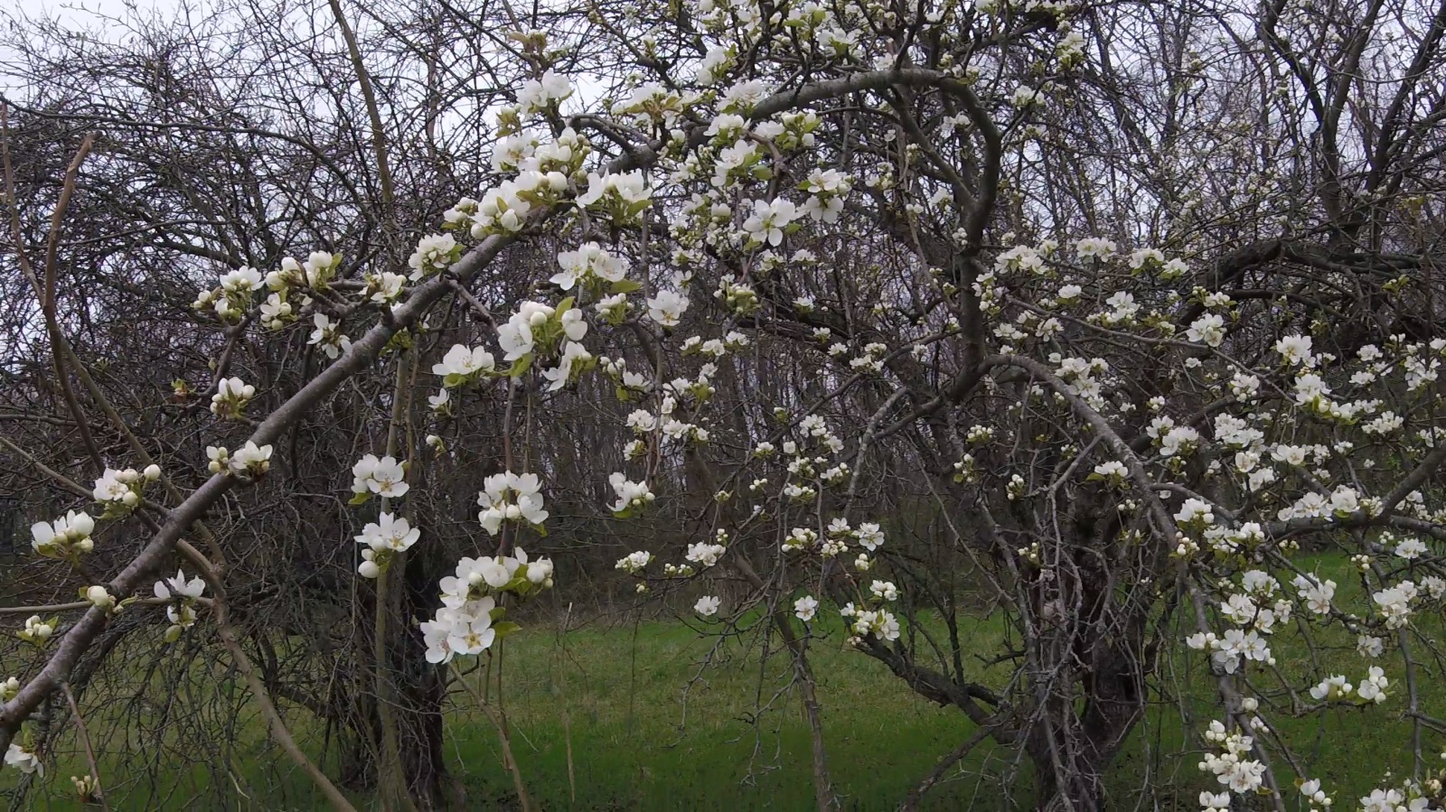flower: (443, 127, 587, 240), (421, 547, 554, 665), (1270, 334, 1379, 423), (212, 250, 344, 322), (1215, 414, 1333, 473), (1191, 720, 1270, 794), (743, 194, 850, 247), (576, 163, 696, 209), (477, 471, 549, 537), (354, 512, 421, 577), (1373, 571, 1446, 630), (549, 242, 633, 291), (1187, 630, 1276, 674), (508, 68, 576, 125), (497, 301, 556, 361), (1055, 358, 1111, 419), (710, 140, 760, 204), (1278, 484, 1361, 522), (93, 464, 162, 506), (540, 341, 593, 393), (352, 454, 410, 501), (31, 510, 95, 549), (647, 271, 692, 326), (713, 74, 777, 112), (409, 233, 457, 282), (1147, 415, 1200, 456), (687, 40, 730, 88), (611, 80, 668, 116), (431, 344, 495, 376), (606, 472, 655, 512), (1290, 573, 1337, 614), (1126, 246, 1189, 275), (669, 193, 709, 238), (1203, 521, 1271, 547), (800, 415, 844, 454), (994, 244, 1049, 275), (550, 297, 588, 341), (813, 24, 865, 54), (1066, 235, 1118, 265), (366, 266, 407, 304), (854, 610, 901, 641), (1185, 313, 1227, 347), (1254, 600, 1293, 635), (1404, 354, 1439, 391), (5, 744, 43, 778), (1221, 593, 1258, 627), (167, 569, 206, 601), (1357, 666, 1389, 705), (230, 441, 273, 470), (807, 168, 853, 194), (704, 113, 751, 138), (1104, 292, 1141, 323), (307, 311, 341, 344), (1310, 674, 1353, 700), (661, 418, 697, 448), (212, 377, 255, 402), (1242, 570, 1280, 598), (1362, 411, 1404, 436), (1360, 789, 1404, 812), (675, 88, 715, 112), (852, 523, 885, 552), (685, 543, 726, 566), (663, 111, 689, 147), (735, 2, 762, 35), (1174, 499, 1212, 522), (935, 112, 971, 136), (625, 410, 658, 436), (1301, 779, 1332, 806), (593, 294, 626, 319), (1230, 370, 1260, 397), (1056, 32, 1089, 56), (1395, 537, 1428, 560), (1248, 467, 1275, 493), (1036, 318, 1065, 342), (620, 551, 650, 574), (928, 186, 954, 212), (1200, 791, 1231, 812), (88, 586, 117, 607), (794, 596, 818, 621), (993, 323, 1028, 340), (1357, 636, 1384, 658), (1204, 292, 1237, 309), (623, 367, 651, 387), (754, 121, 785, 139), (870, 581, 897, 601), (695, 596, 722, 616), (1349, 368, 1377, 387), (1095, 461, 1128, 477), (708, 203, 733, 224), (428, 388, 450, 411), (207, 446, 228, 470), (873, 52, 898, 72), (147, 581, 171, 601), (828, 518, 853, 536), (700, 339, 726, 356), (1357, 345, 1384, 361), (784, 483, 814, 497), (336, 335, 354, 358), (671, 378, 693, 396), (623, 439, 641, 461), (167, 606, 183, 630), (191, 289, 211, 308), (699, 363, 718, 383), (1059, 285, 1086, 299), (1410, 798, 1437, 812), (726, 331, 751, 346), (662, 391, 678, 414), (850, 355, 876, 369), (27, 622, 53, 636), (322, 343, 342, 359), (821, 467, 843, 481), (792, 528, 812, 542), (680, 337, 701, 350), (827, 343, 848, 356), (976, 268, 994, 282), (802, 134, 820, 147), (810, 327, 831, 337), (1372, 361, 1389, 373), (803, 109, 816, 124), (434, 257, 451, 268), (972, 283, 985, 297), (1430, 339, 1446, 350), (784, 442, 796, 454), (607, 363, 618, 375), (1202, 514, 1215, 524), (1049, 353, 1061, 363), (615, 358, 625, 370), (1396, 806, 1408, 812), (682, 142, 688, 151), (708, 169, 713, 175), (659, 285, 666, 289), (1357, 492, 1361, 499), (1207, 737, 1214, 741), (739, 26, 743, 30), (573, 89, 576, 94)
